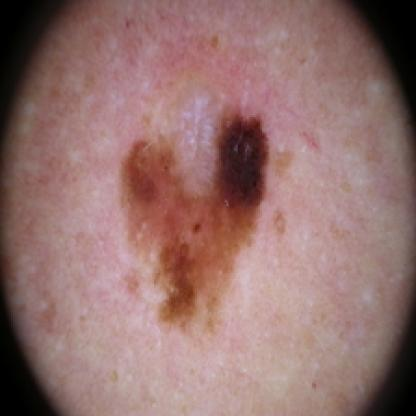Skin_Cancer-Malignant: (122, 110, 268, 328)
